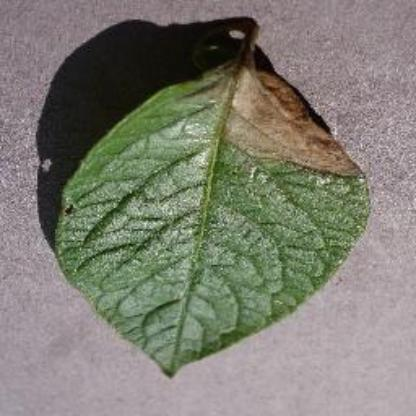Late-Blight: (49, 36, 371, 384)
